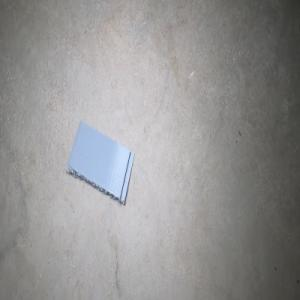PlasticPart: (64, 120, 134, 206)
